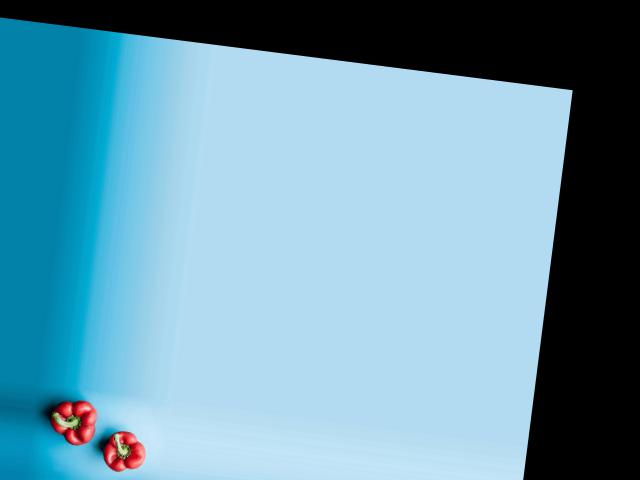bell_pepper: (41, 397, 107, 453)
